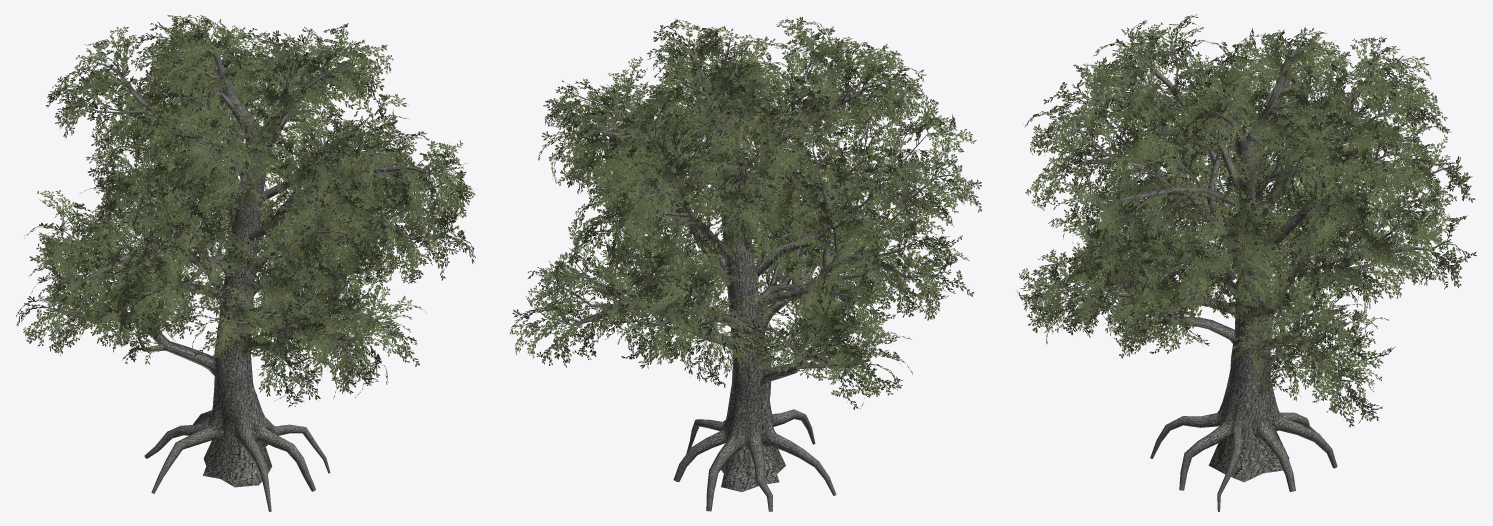
File: oak_tree_compressed.glb
3 renders of one model, left to right at view 1: azimuth 30°, elevation 25°; view 2: azimuth 150°, elevation 25°; view 3: azimuth 270°, elevation 25°, orthographic.
Visible parts, largest first — view 1: Oak01_LOD0_M_Branch.004_0, Oak01_LOD0_M_Bark.004_0; view 2: Oak01_LOD0_M_Branch.004_0, Oak01_LOD0_M_Bark.004_0; view 3: Oak01_LOD0_M_Branch.004_0, Oak01_LOD0_M_Bark.004_0.
Boxes of the visible parts, x1=… form: Oak01_LOD0_M_Branch.004_0: x1=16, y1=14, x2=475, y2=407; Oak01_LOD0_M_Bark.004_0: x1=52, y1=37, x2=441, y2=511; Oak01_LOD0_M_Branch.004_0: x1=510, y1=17, x2=981, y2=409; Oak01_LOD0_M_Bark.004_0: x1=544, y1=38, x2=951, y2=511; Oak01_LOD0_M_Branch.004_0: x1=1016, y1=14, x2=1476, y2=427; Oak01_LOD0_M_Bark.004_0: x1=1047, y1=47, x2=1455, y2=511.
Bounding box in the file's own units: 22.98 × 24.2 × 23.31.
Materials: 2 (2 with a texture image).
